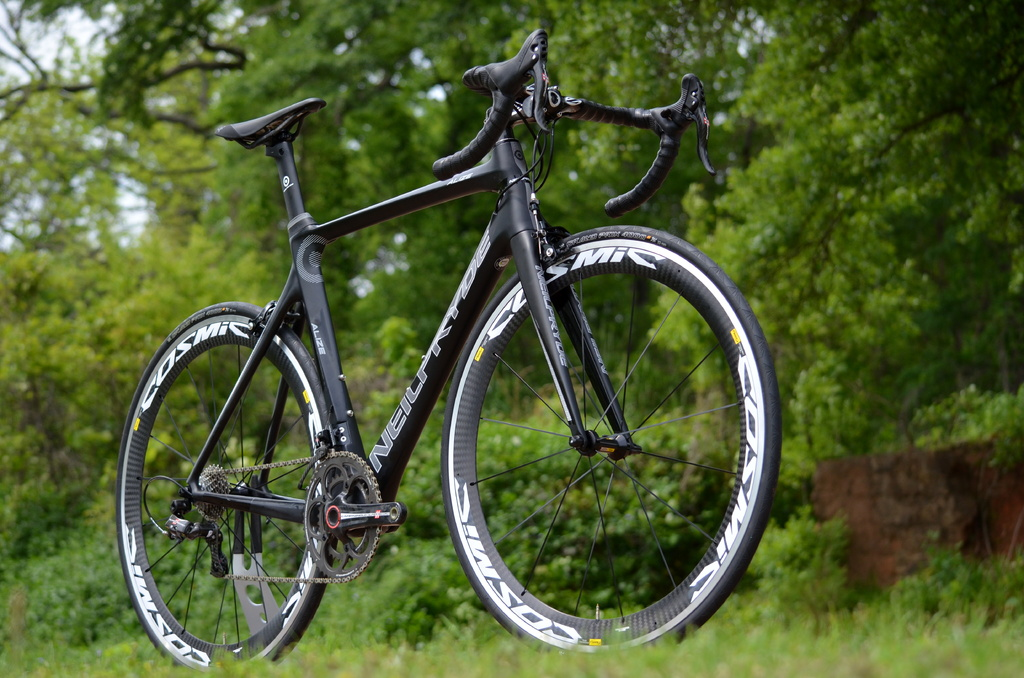Bike_toward: (136, 192, 730, 649)
